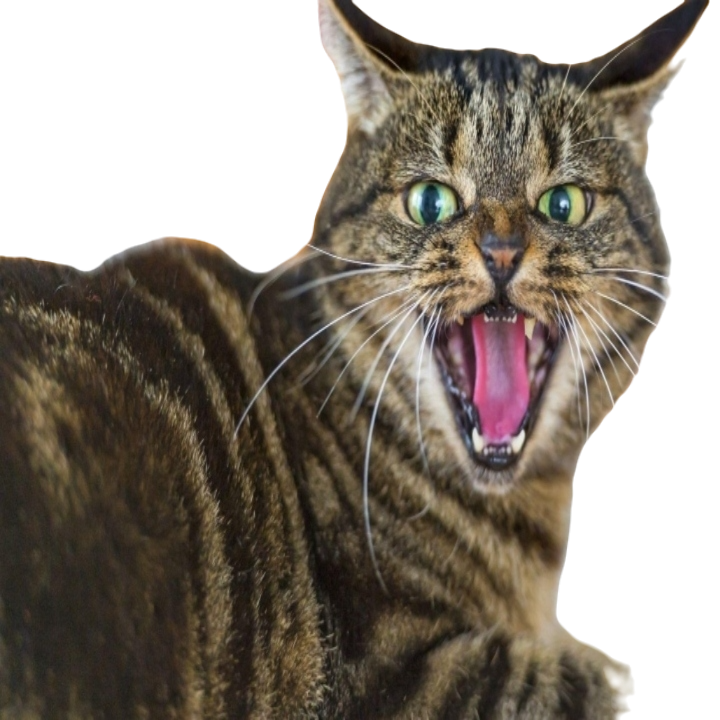Cat: (1, 0, 719, 719)
